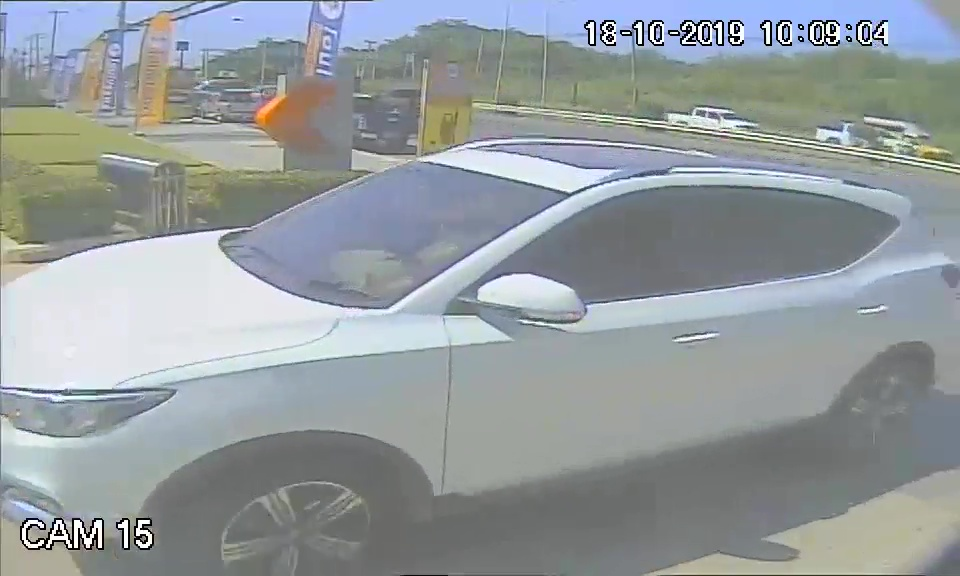sedan: (3, 135, 957, 539)
